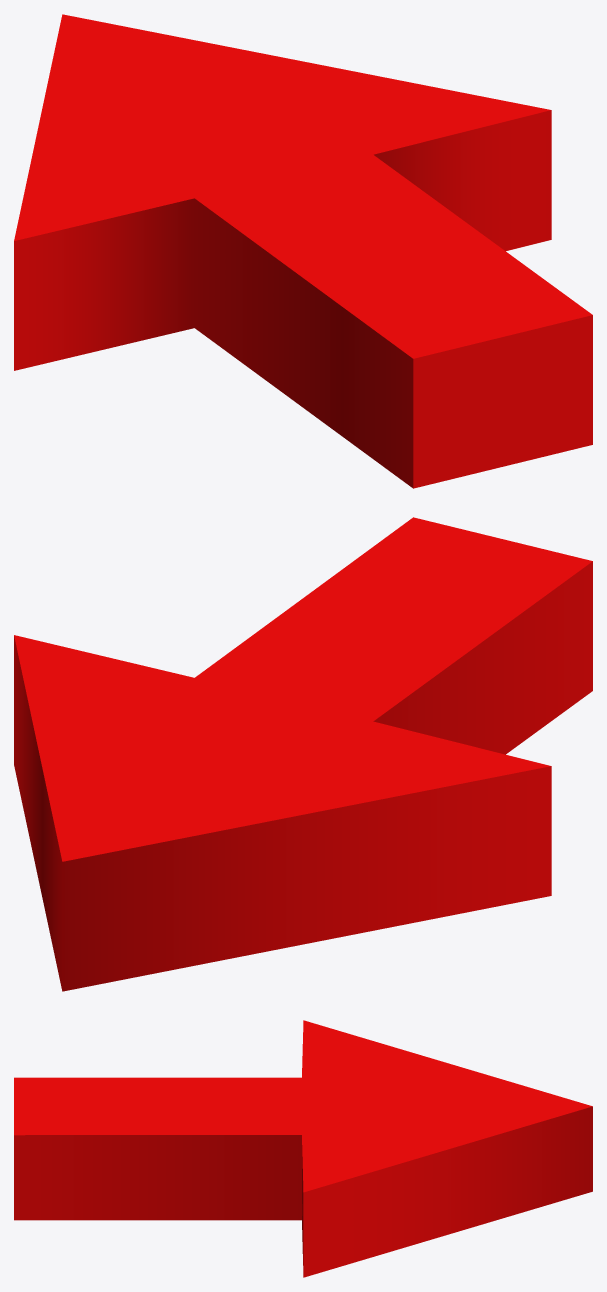
File: yajirusi.fbx
The picture shows the model from 3 angles, top to bottom: view 1: azimuth 30°, elevation 25°; view 2: azimuth 150°, elevation 25°; view 3: azimuth 270°, elevation 25°; orthographic projection. The views are drawn at different scales.
Visible parts, largest first — view 1: pCube1; view 2: pCube1; view 3: pCube1.
Part boxes in pixels (x1,y1,x2,y2): pCube1: (14,14,592,488); pCube1: (14,517,592,991); pCube1: (14,1020,592,1277).
Bounding box in the file's own units: 36.22 × 8.36 × 51.44.
